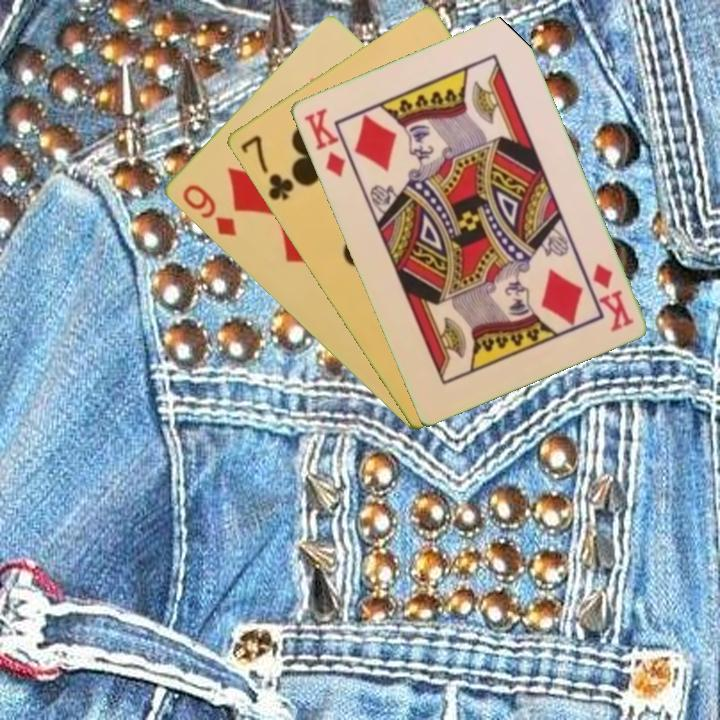7c: (236, 131, 296, 204)
9d: (178, 181, 239, 240)
Kd: (299, 104, 348, 180), (588, 260, 636, 335)
